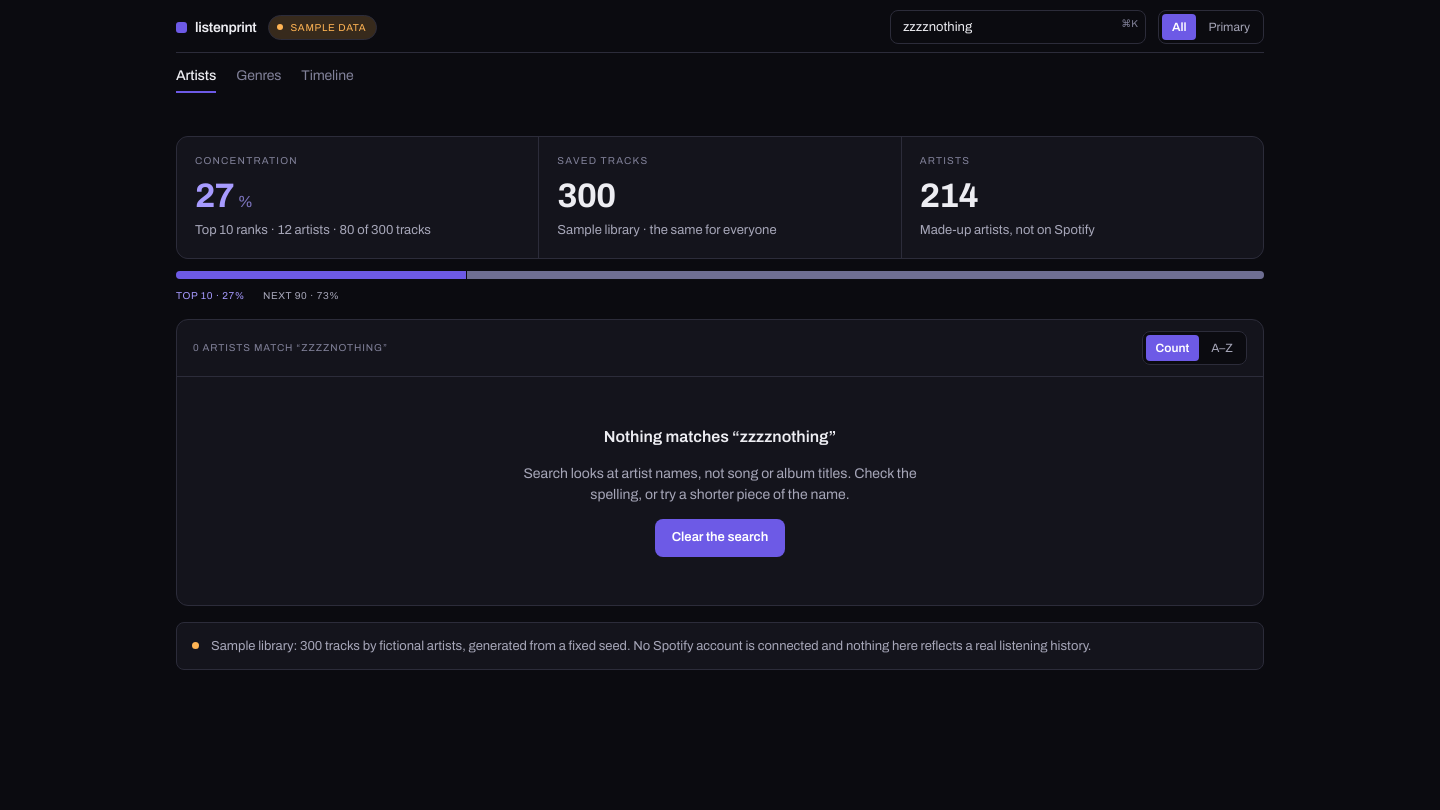
it: searching the demo ranking › clears the filter from the empty state
Expected: the text "Nothing matches “zzzznothing”" is shown, [604,428,836,445]
Click the button "Clear the search" at (720, 538), box [655,519,785,557]
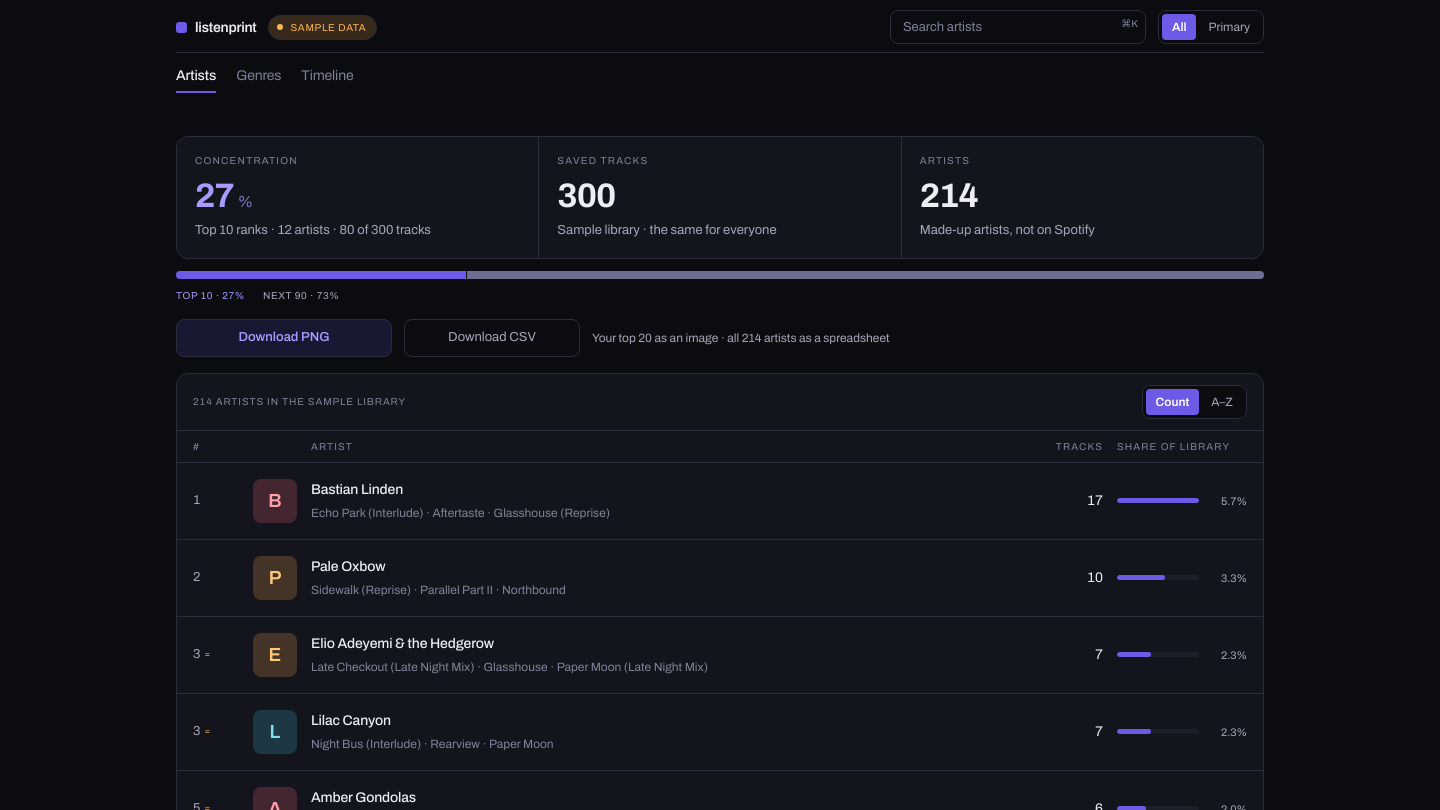
Result: the search field labelled "Search artists" is empty at [890,10,1146,44]
